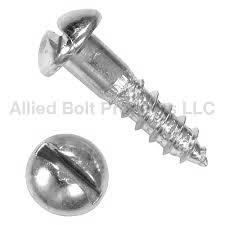screw: (25, 133, 112, 218)
